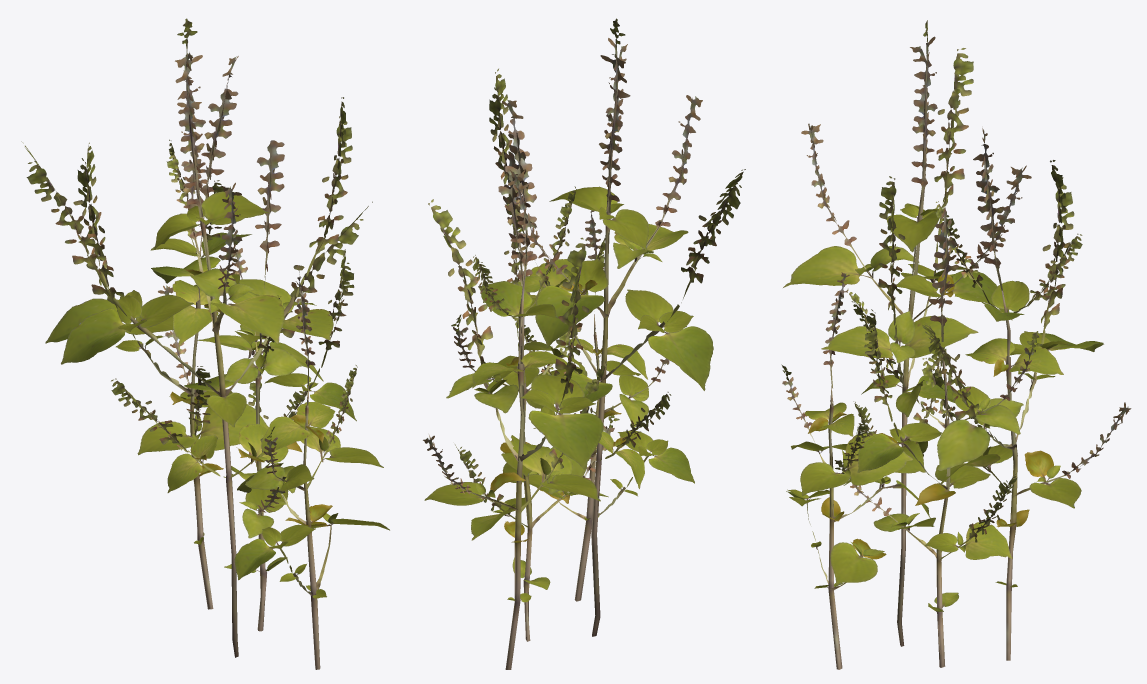
The model's file is ph_shrub_6.glb.
3 renders of one model, left to right at view 1: azimuth 30°, elevation 25°; view 2: azimuth 150°, elevation 25°; view 3: azimuth 270°, elevation 25°, orthographic. The views are drawn at different scales.
Visible parts, largest first — view 1: ph_shrub_6_lod1; view 2: ph_shrub_6_lod1; view 3: ph_shrub_6_lod1.
Part boxes in pixels (box(x1,y1,x2,y2)): ph_shrub_6_lod1: box(21, 18, 389, 669); ph_shrub_6_lod1: box(423, 18, 745, 669); ph_shrub_6_lod1: box(781, 20, 1131, 669).
Size of the model in its own units: 0.2248 by 0.401 by 0.2084.
Materials: 1 (1 with a texture image).
